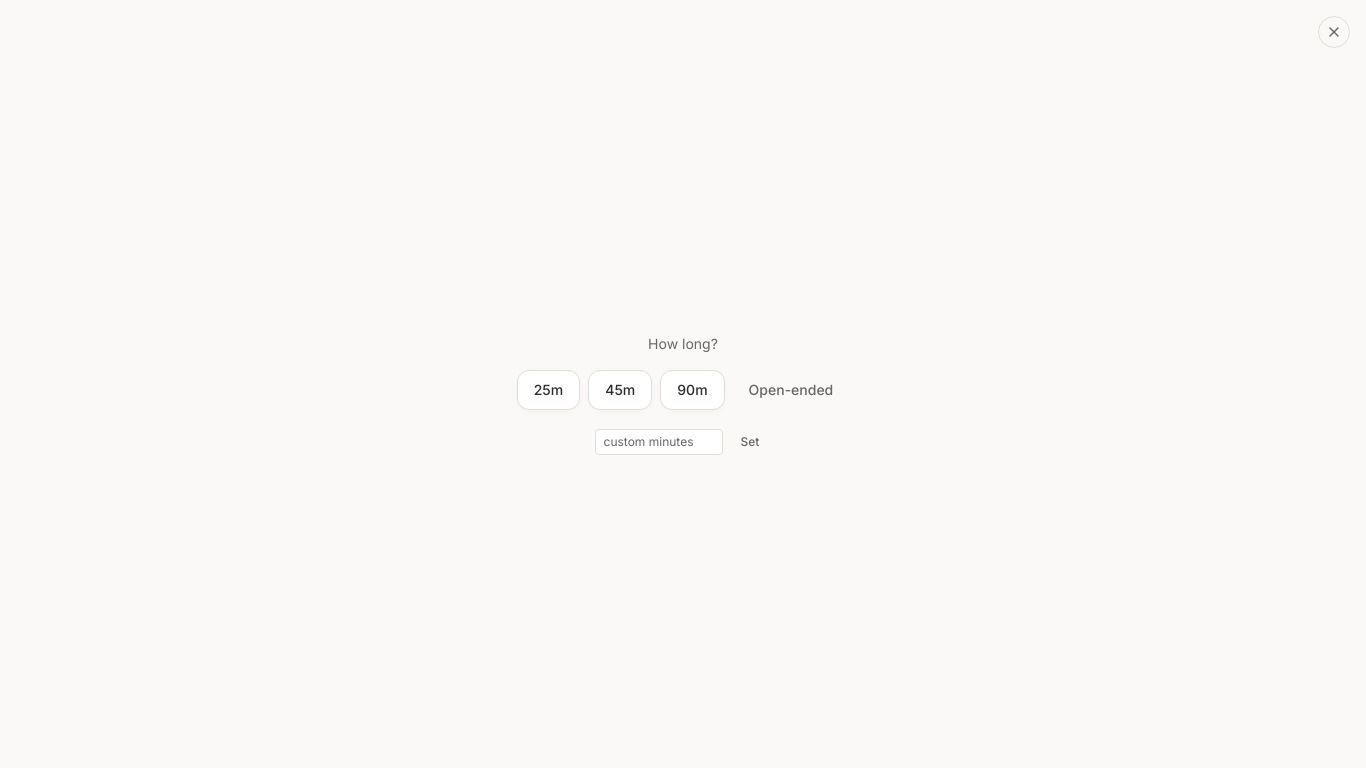
Scenario: FocusMode › choosing a preset duration reveals the one card and a quiet clock
Click the button with test id "focus-duration-preset-25": click(548, 390) [517,370,580,410]
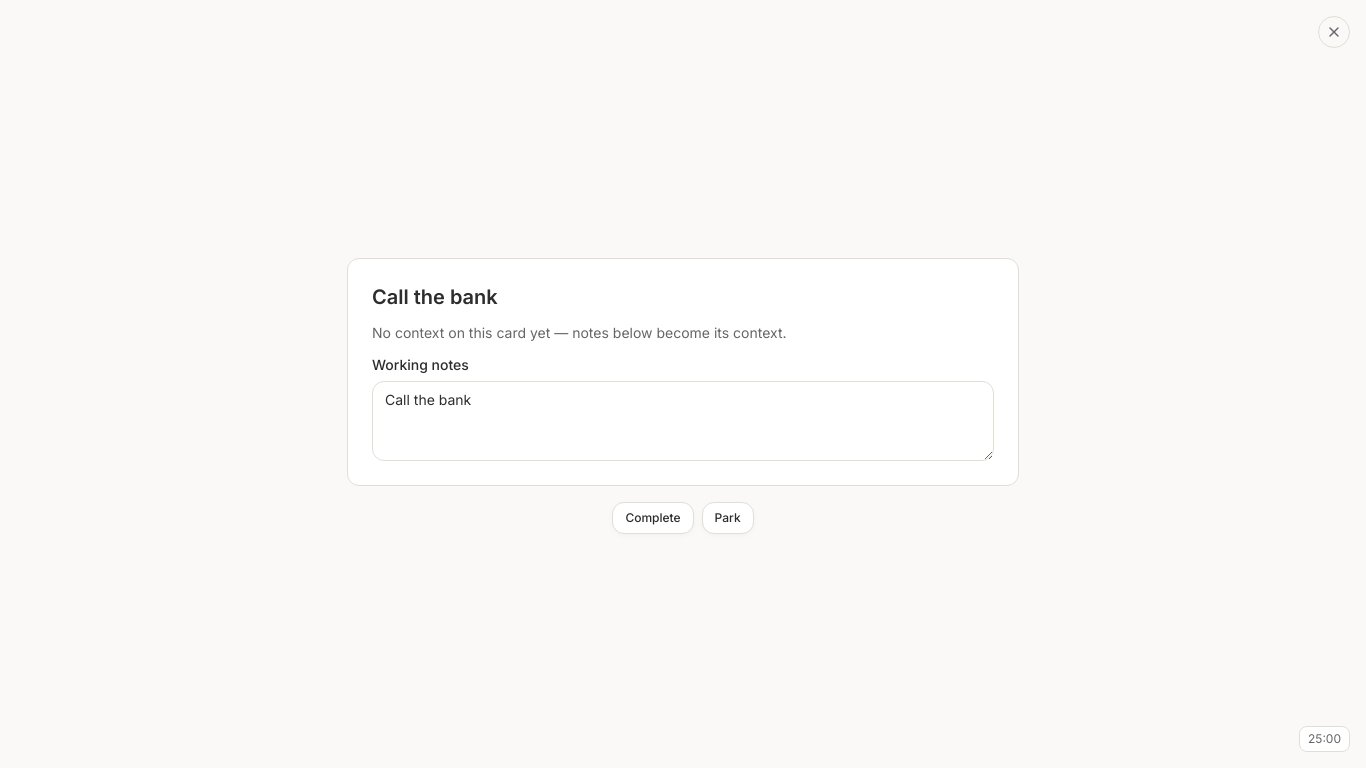
Expected: the element with test id "focus-mode-card" is shown, [347,258,1019,486]
Expected: the heading with test id "focus-mode-title" reads "Call the bank", [372,285,498,309]
Expected: the text with test id "focus-mode-clock" reads "25:00", [1308,731,1341,746]
